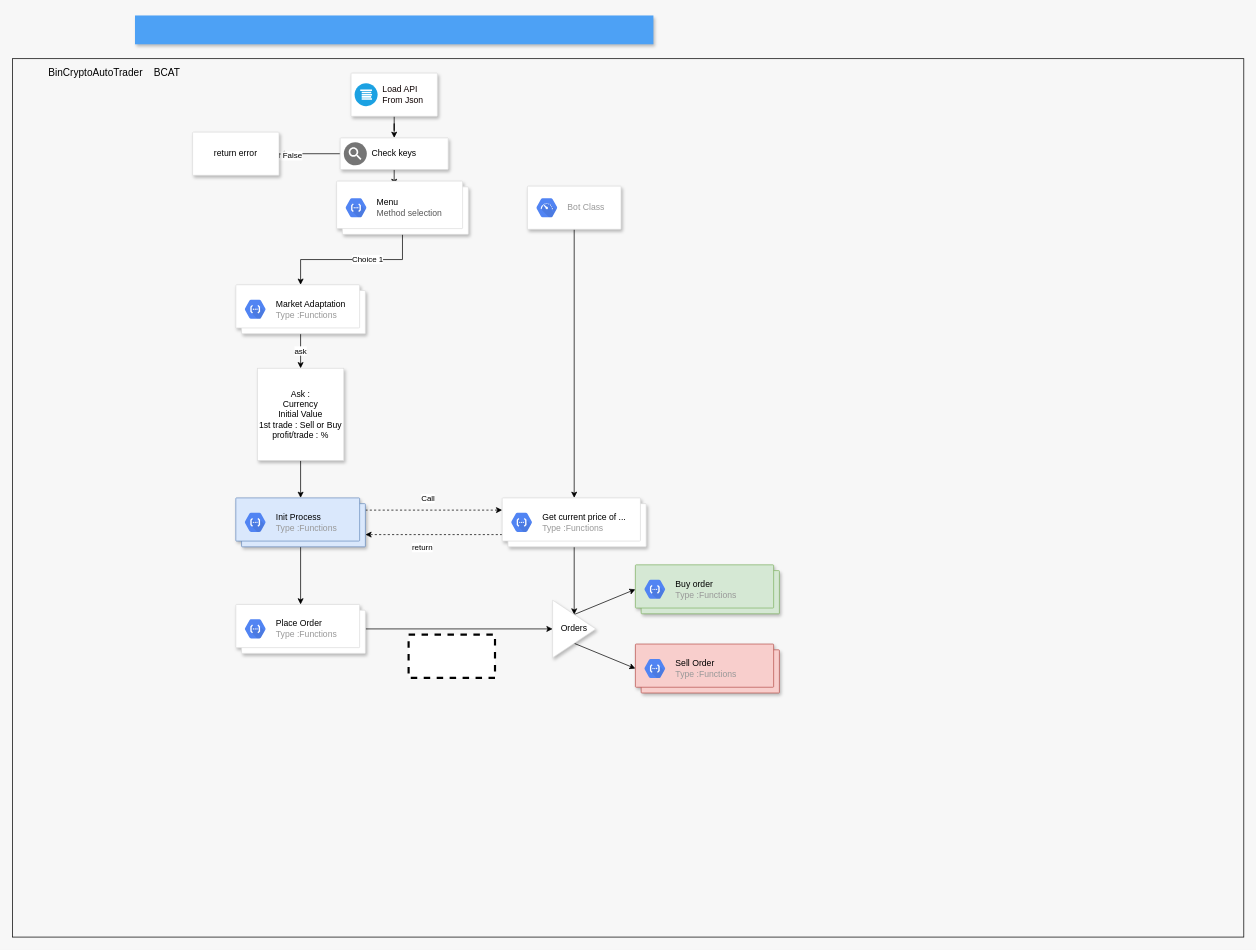
This 1256x950 diagram has some shape labels left out. Here are the shapes that lost their labels. From the top down, the centre of each, then its label:
the point at 394,30: BinCryptoAutoTrader >> BCAT
the point at 451,656: Register & Store Trade UID
